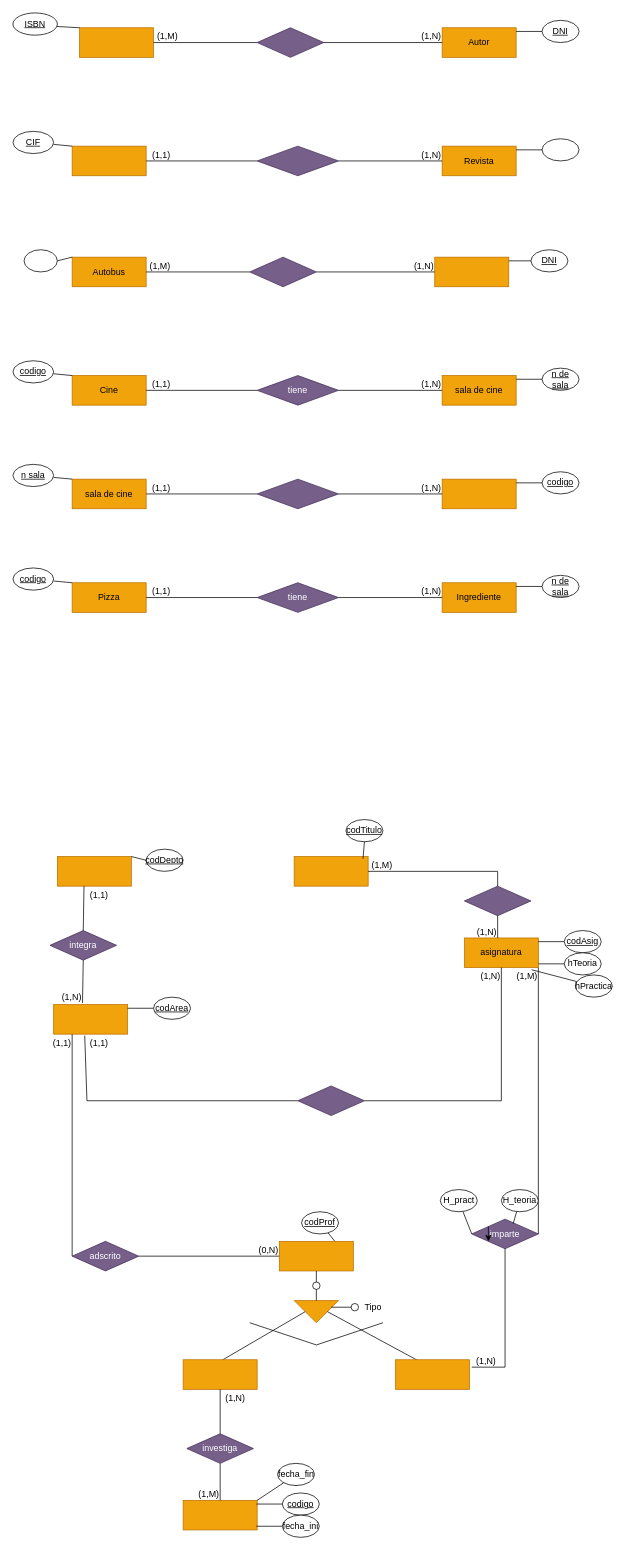
Image size: 625x1550. Some labels were removed from this diagram. Here are the shapes that lost their labels. From the top down, the centre of each, then its label:
[116,42]: Libro
[290,42]: escribe
[108,160]: Editorial
[297,160]: edita
[560,149]: ISSN
[40,260]: matrcicula
[282,271]: conduce
[471,271]: Conductor
[297,493]: realiza
[478,493]: proyeccion
[94,871]: Departamento
[330,871]: Titulacion
[497,900]: oferta
[90,1019]: Area de conocimiento
[330,1100]: encarga
[316,1256]: profesor
[219,1374]: investigador
[432,1374]: titular
[219,1515]: investigacion
